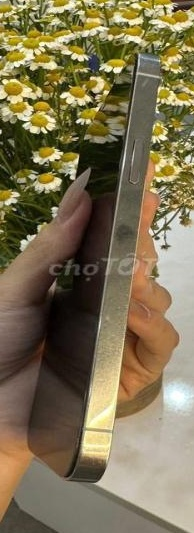scratch: (82, 205, 153, 402)
